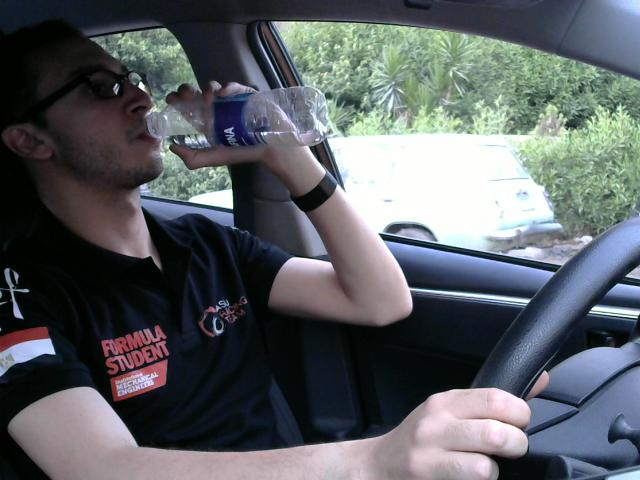Drinking: (142, 79, 334, 152)
